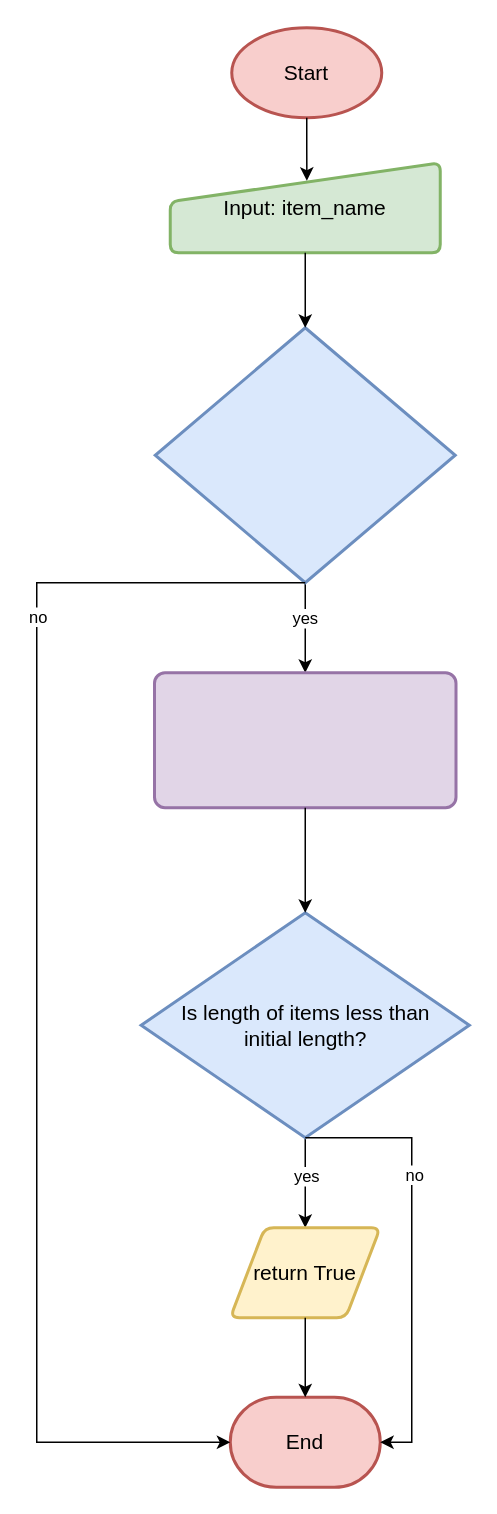
This 497x1514 diagram has some shape labels left out. The shapes that lost their labels are listed below. From the top down, each one's centre as x and y in pixels, then its label:
At point (304, 455): "Is item_name in items?".
At point (304, 739): "Update item list by removing item_name".
